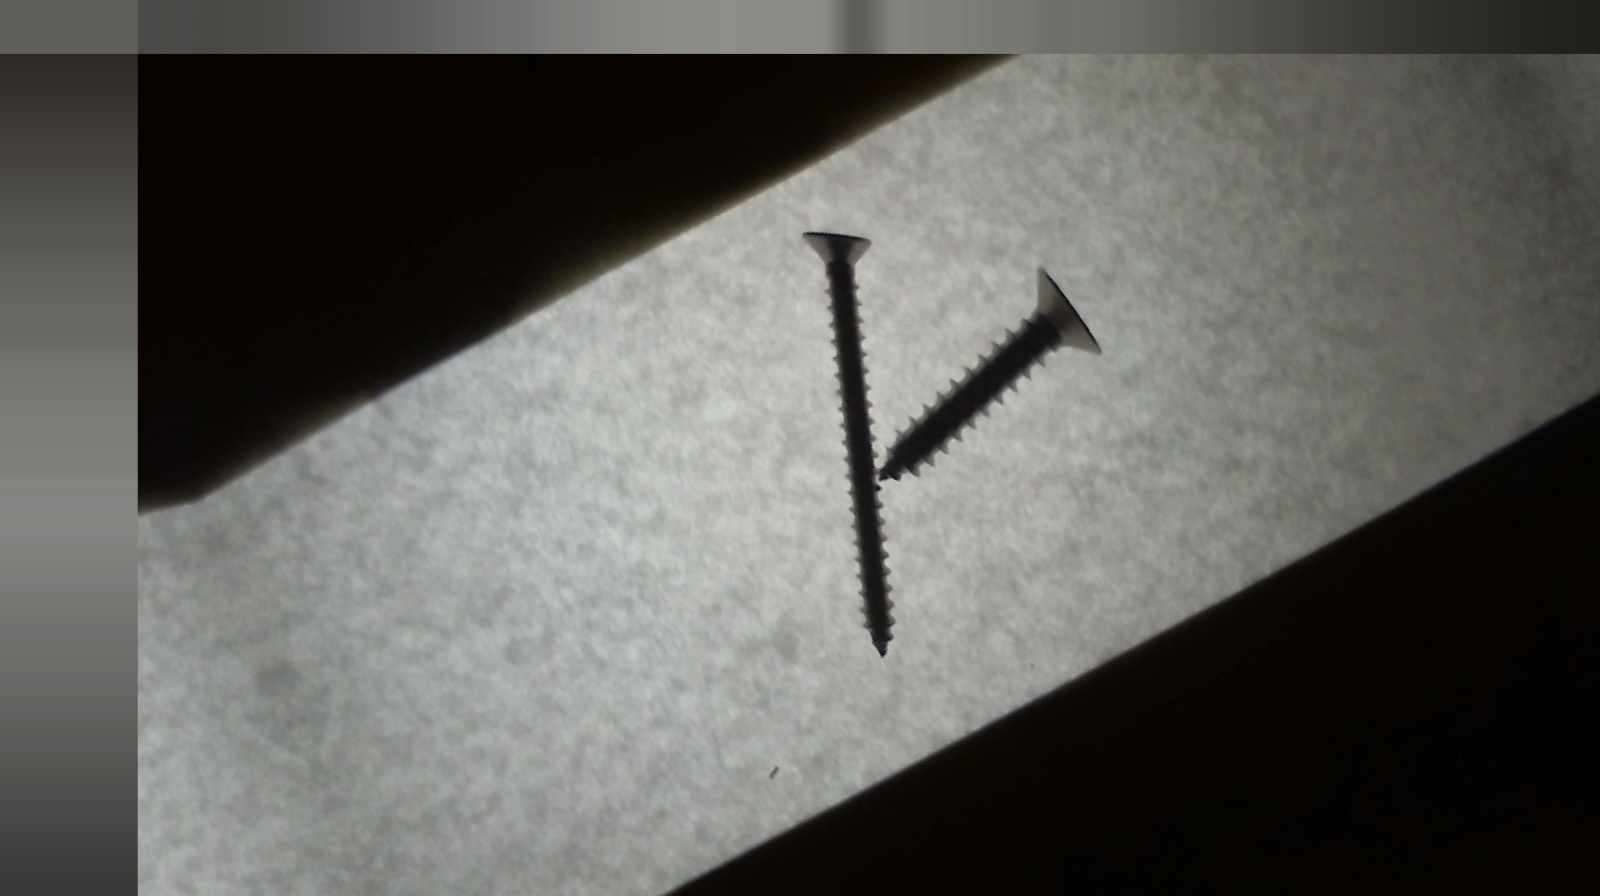S001: (820, 253, 1132, 497)
S002: (700, 207, 1040, 667)
